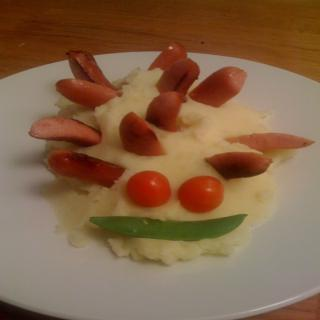tomato: (174, 176, 224, 215), (126, 171, 174, 205)
